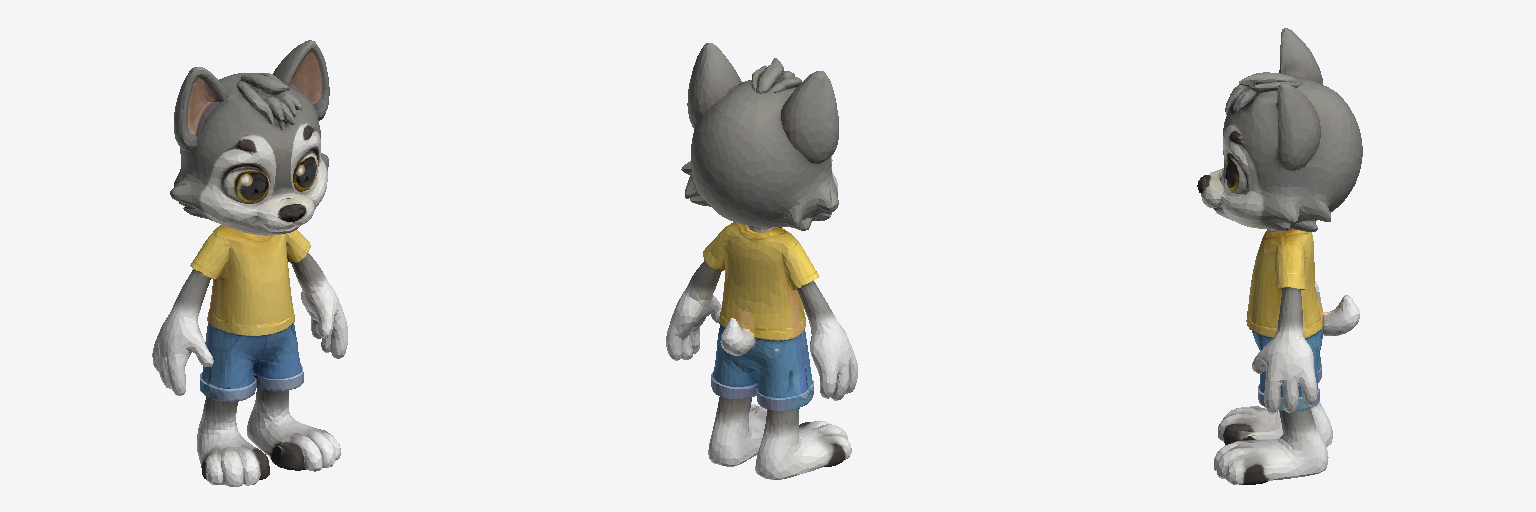
3 views of the same model, side by side, from view 1: azimuth 30°, elevation 25°; view 2: azimuth 150°, elevation 25°; view 3: azimuth 270°, elevation 25° (orthographic).
Visible parts, largest first — view 1: Wolf_Pup_Pal_[number redacted]_texture; view 2: Wolf_Pup_Pal_[number redacted]_texture; view 3: Wolf_Pup_Pal_[number redacted]_texture.
Boxes of the visible parts, box(x1,y1,x2,y2) form: Wolf_Pup_Pal_[number redacted]_texture: box(152, 40, 347, 486); Wolf_Pup_Pal_[number redacted]_texture: box(666, 43, 857, 479); Wolf_Pup_Pal_[number redacted]_texture: box(1197, 28, 1362, 484).
Size of the model in its own units: 0.9215 by 2 by 0.7484.
1 materials, 1 textured.